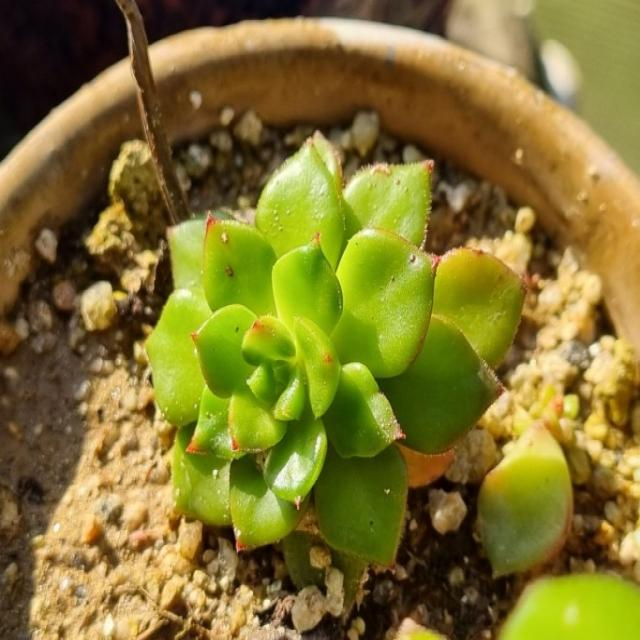Letizia: (148, 132, 525, 564)
